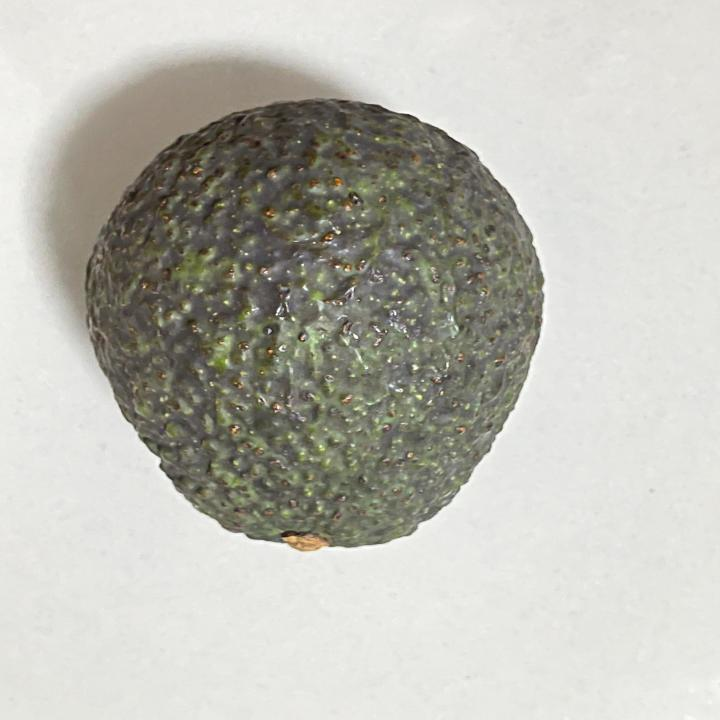Level1: (62, 81, 565, 574)
